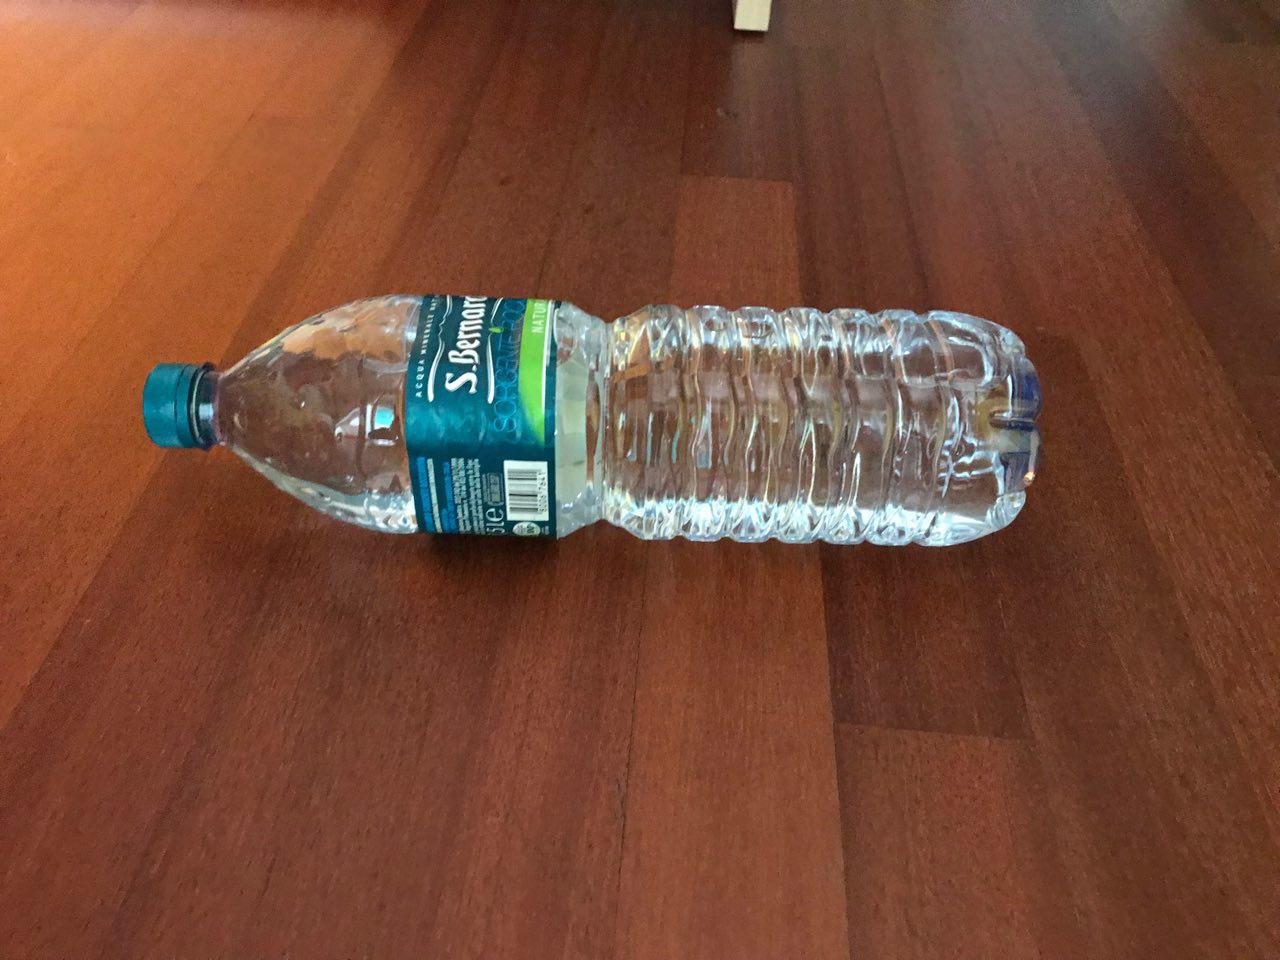san_bernardo: (139, 290, 1042, 551)
